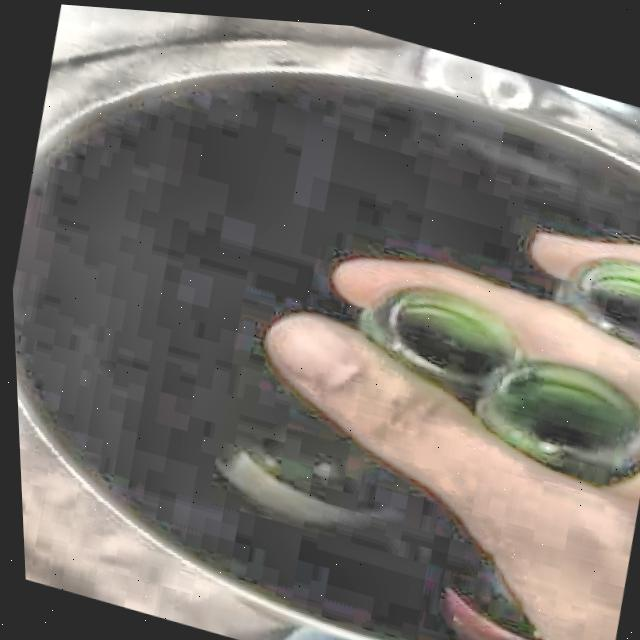glass: (353, 279, 640, 478), (217, 392, 412, 525), (440, 538, 540, 640), (552, 249, 640, 343)
